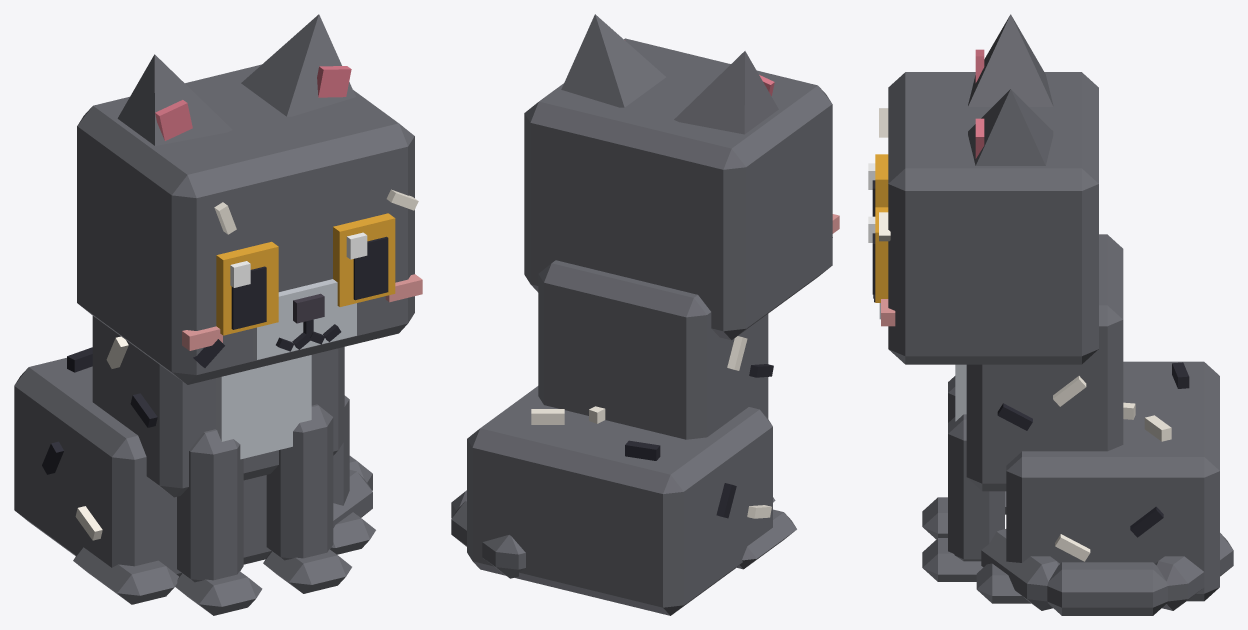
Rendered from CatCafe_Cat_Pepper_Sit.glb.
The picture shows the model from 3 angles, left to right: view 1: azimuth 30°, elevation 25°; view 2: azimuth 150°, elevation 25°; view 3: azimuth 270°, elevation 25°; orthographic projection. The views are drawn at different scales.
Visible parts, largest first — view 1: CatCafe_Cat_Pepper_Sit_Head, CatCafe_Cat_Pepper_Sit_Body, CatCafe_Cat_Pepper_Sit_LegF2, CatCafe_Cat_Pepper_Sit_LegF1, CatCafe_Cat_Pepper_Sit_EarL, CatCafe_Cat_Pepper_Sit_EarR, CatCafe_Cat_Pepper_Sit_Eye2, CatCafe_Cat_Pepper_Sit_Eye1, CatCafe_Cat_Pepper_Sit_Tail; view 2: CatCafe_Cat_Pepper_Sit_Body, CatCafe_Cat_Pepper_Sit_Head, CatCafe_Cat_Pepper_Sit_EarL, CatCafe_Cat_Pepper_Sit_EarR, CatCafe_Cat_Pepper_Sit_Tail; view 3: CatCafe_Cat_Pepper_Sit_Head, CatCafe_Cat_Pepper_Sit_Body, CatCafe_Cat_Pepper_Sit_Tail, CatCafe_Cat_Pepper_Sit_LegF1, CatCafe_Cat_Pepper_Sit_EarL, CatCafe_Cat_Pepper_Sit_EarR, CatCafe_Cat_Pepper_Sit_Eye1, CatCafe_Cat_Pepper_Sit_LegF2, CatCafe_Cat_Pepper_Sit_Eye2.
Part boxes in pixels (<box>): CatCafe_Cat_Pepper_Sit_Head: <box>77,64,422,384</box>; CatCafe_Cat_Pepper_Sit_Body: <box>14,316,375,604</box>; CatCafe_Cat_Pepper_Sit_LegF2: <box>175,429,262,615</box>; CatCafe_Cat_Pepper_Sit_LegF1: <box>263,404,351,593</box>; CatCafe_Cat_Pepper_Sit_EarL: <box>241,14,355,116</box>; CatCafe_Cat_Pepper_Sit_EarR: <box>117,54,232,145</box>; CatCafe_Cat_Pepper_Sit_Eye2: <box>216,241,278,335</box>; CatCafe_Cat_Pepper_Sit_Eye1: <box>333,213,395,306</box>; CatCafe_Cat_Pepper_Sit_Tail: <box>333,456,372,527</box>; CatCafe_Cat_Pepper_Sit_Body: <box>467,260,796,615</box>; CatCafe_Cat_Pepper_Sit_Head: <box>524,38,839,340</box>; CatCafe_Cat_Pepper_Sit_EarL: <box>561,14,665,107</box>; CatCafe_Cat_Pepper_Sit_EarR: <box>674,51,778,134</box>; CatCafe_Cat_Pepper_Sit_Tail: <box>451,490,525,578</box>; CatCafe_Cat_Pepper_Sit_Head: <box>873,72,1098,364</box>; CatCafe_Cat_Pepper_Sit_Body: <box>955,234,1219,603</box>; CatCafe_Cat_Pepper_Sit_Tail: <box>981,529,1233,615</box>; CatCafe_Cat_Pepper_Sit_LegF1: <box>922,414,1004,581</box>; CatCafe_Cat_Pepper_Sit_EarL: <box>968,89,1053,165</box>; CatCafe_Cat_Pepper_Sit_EarR: <box>968,14,1053,106</box>; CatCafe_Cat_Pepper_Sit_Eye1: <box>868,207,888,302</box>; CatCafe_Cat_Pepper_Sit_LegF2: <box>922,376,955,539</box>; CatCafe_Cat_Pepper_Sit_Eye2: <box>868,154,888,216</box>.
Size of the model in its own units: 1.05 by 1.85 by 1.22.
Materials: 1 (1 with a texture image).
